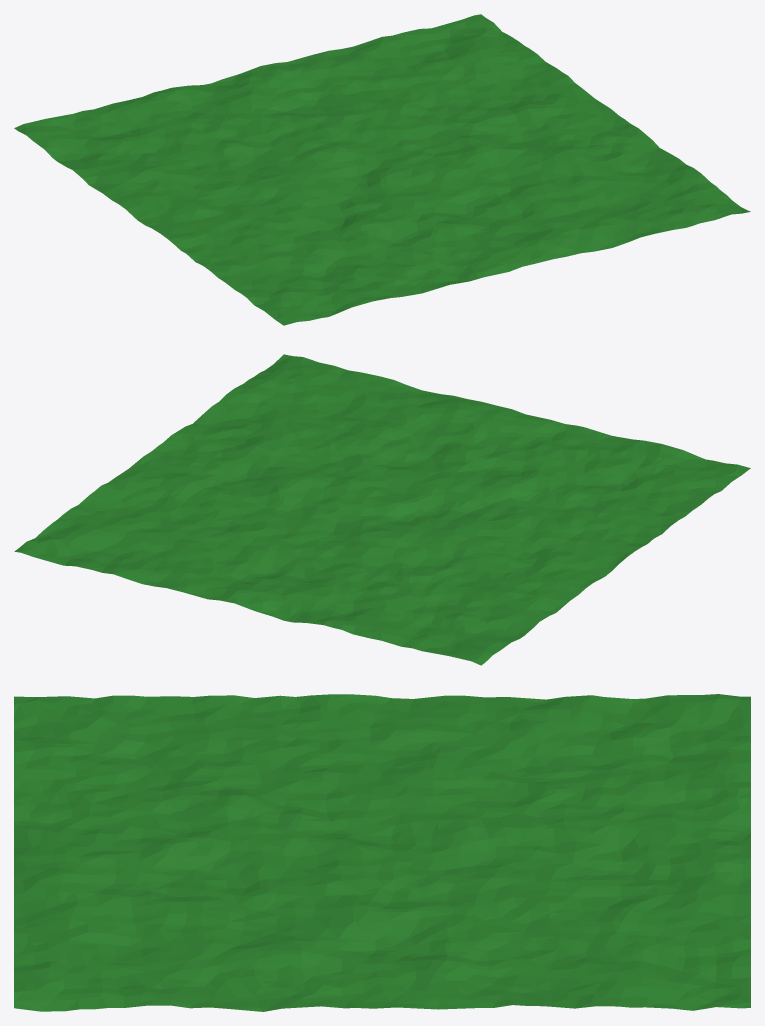
File: low_terrain2_disturb.fbx
3 renders of one model, top to bottom at view 1: azimuth 30°, elevation 25°; view 2: azimuth 150°, elevation 25°; view 3: azimuth 270°, elevation 25°, orthographic. The views are drawn at different scales.
Parts seen in each view (by area): view 1: Plane; view 2: Plane; view 3: Plane.
Part boxes in pixels (x1,y1,x2,y2): Plane: (14, 14, 750, 325); Plane: (14, 354, 750, 665); Plane: (14, 694, 750, 1011).
Bounding box in the file's own units: 3819 × 70.82 × 3819.
